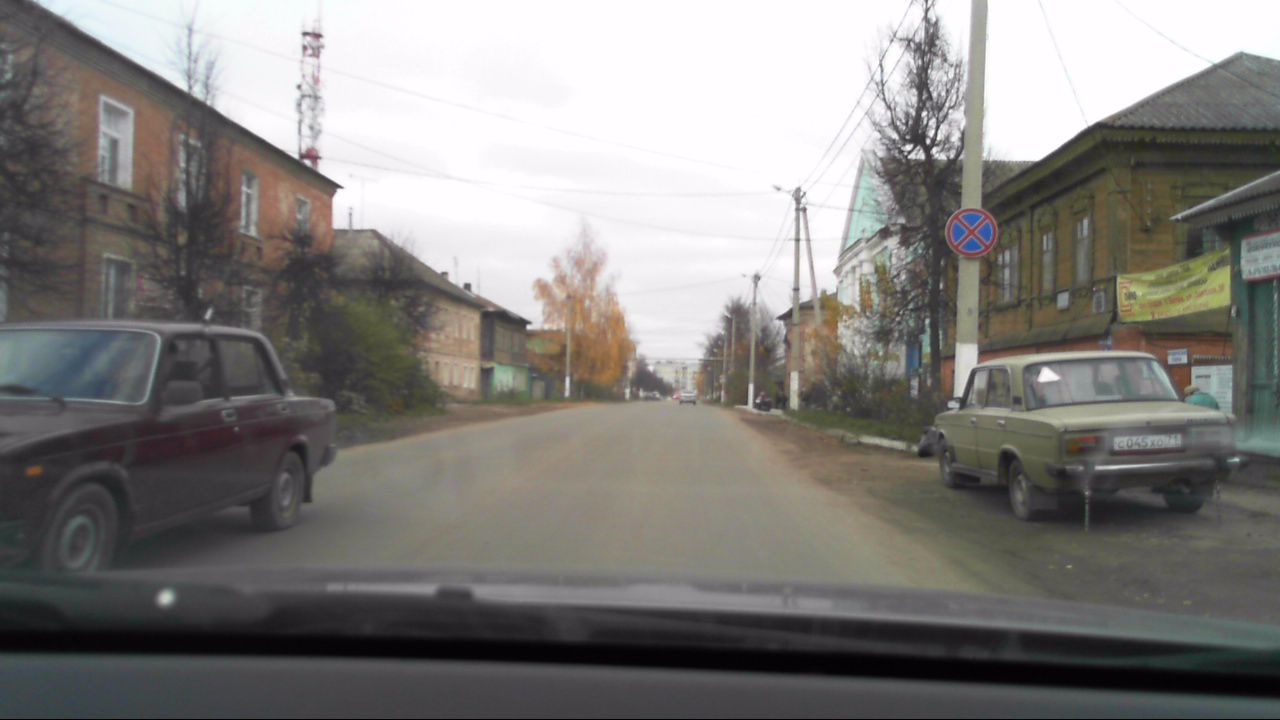No Parking: (944, 207, 999, 258)
